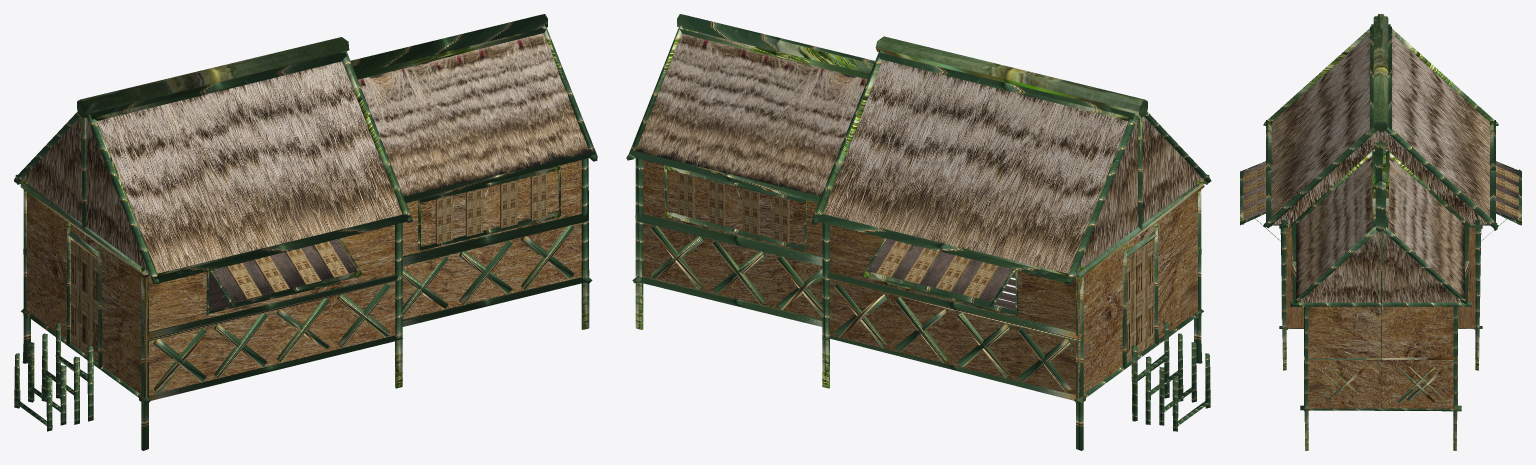
Rendered from nha-la.glb.
3 renders of one model, left to right at view 1: azimuth 30°, elevation 25°; view 2: azimuth 150°, elevation 25°; view 3: azimuth 270°, elevation 25°, orthographic. The views are drawn at different scales.
Parts seen in each view (by area): view 1: Cube_Roof_0, Cube_Wooddd_0, Cube_Roof. 22010_0, Cube_Doork_0, Cube_Material.001_0; view 2: Cube_Roof_0, Cube_Wooddd_0, Cube_Roof. 22010_0, Cube_Doork_0, Cube_Material.001_0; view 3: Cube_Roof_0, Cube_Wooddd_0, Cube_Roof. 22010_0, Cube_Doork_0, Cube_Material.001_0.
Part boxes in pixels (<box>): Cube_Roof_0: <box>21,33,589,275</box>; Cube_Wooddd_0: <box>14,14,597,450</box>; Cube_Roof. 22010_0: <box>27,160,581,398</box>; Cube_Doork_0: <box>71,172,547,361</box>; Cube_Material.001_0: <box>20,182,357,311</box>; Cube_Roof_0: <box>636,30,1203,274</box>; Cube_Wooddd_0: <box>626,14,1211,450</box>; Cube_Roof. 22010_0: <box>643,160,1197,397</box>; Cube_Doork_0: <box>677,172,1153,361</box>; Cube_Material.001_0: <box>867,182,1204,310</box>; Cube_Roof_0: <box>1271,34,1489,302</box>; Cube_Wooddd_0: <box>1240,14,1521,450</box>; Cube_Roof. 22010_0: <box>1286,183,1475,408</box>; Cube_Doork_0: <box>1243,166,1518,217</box>; Cube_Material.001_0: <box>1243,162,1518,225</box>.
Bounding box in the file's own units: 0.9999 × 0.5693 × 0.5771.
5 materials, 5 textured.
